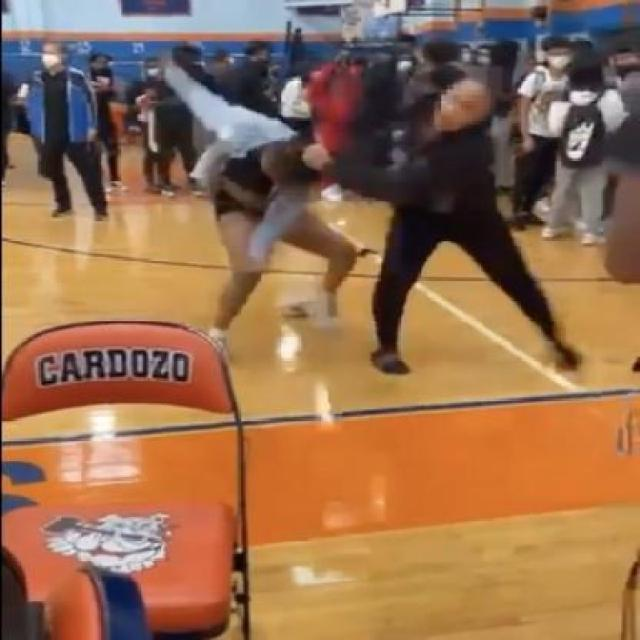fight: (159, 60, 603, 435), (9, 16, 162, 252), (511, 23, 640, 288)
